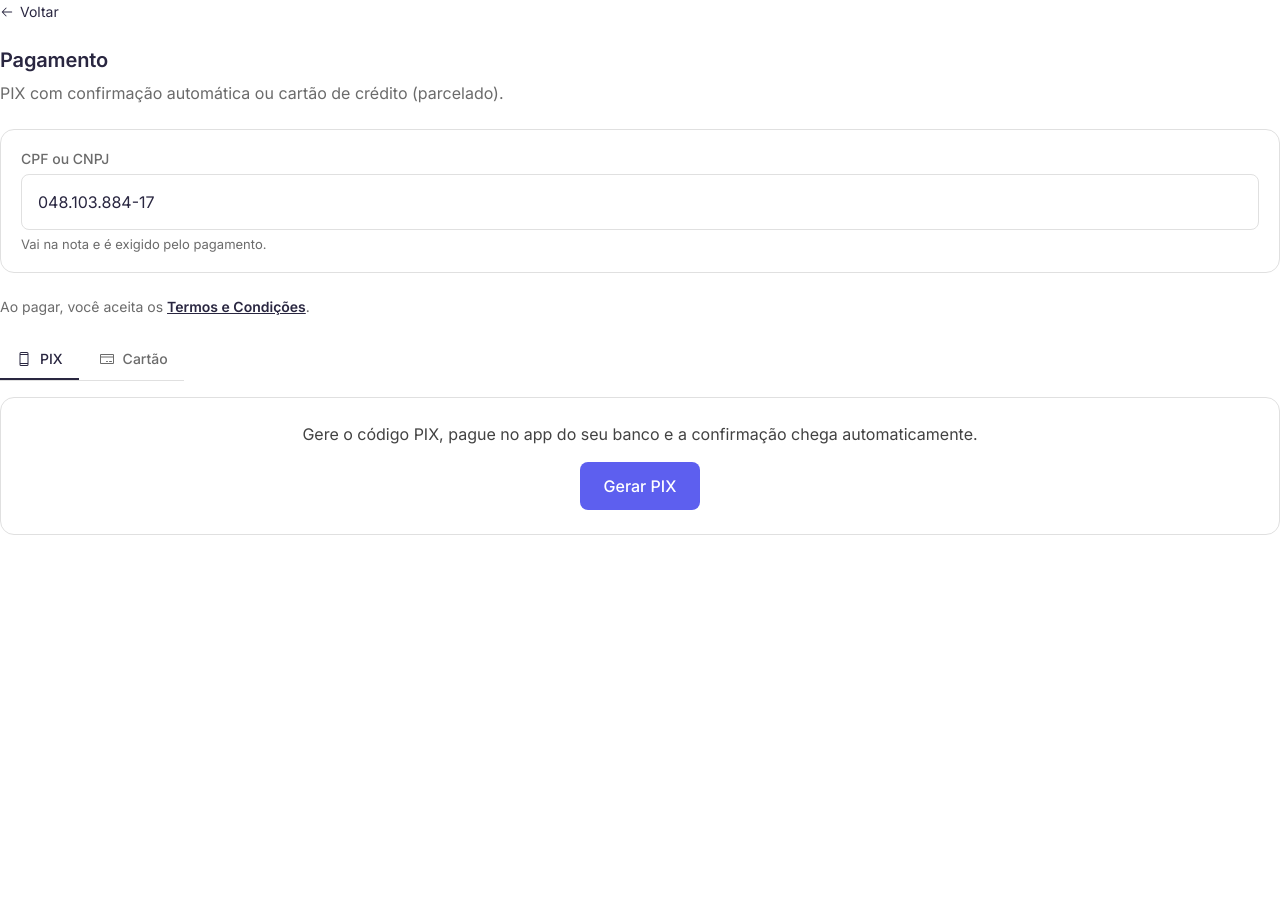
Step4Payment: parcelas com juros › cada opção com juros mostra taxa, acréscimo e CET; a escolhida vai para o resumo
Step 1. Click the tab "Cartão" → [133, 360], box [83,340,184,380]
(page scrolled)
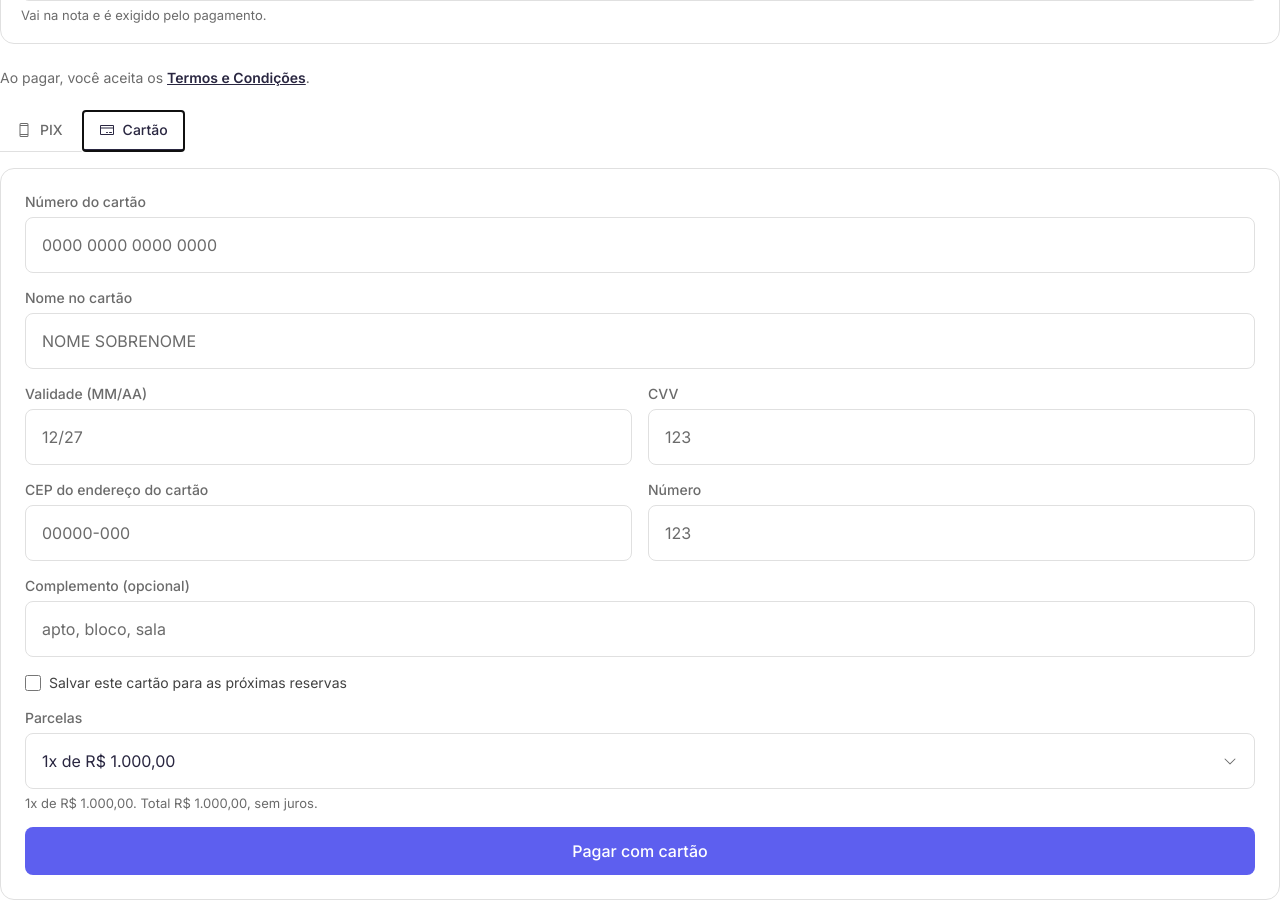
expect the dropdown named "Parcelas" is shown: met
Step 2. Click the dropdown labelled "1x de R$ 1.000,00" → [109, 761], box [25,733,1255,789]
(page scrolled)
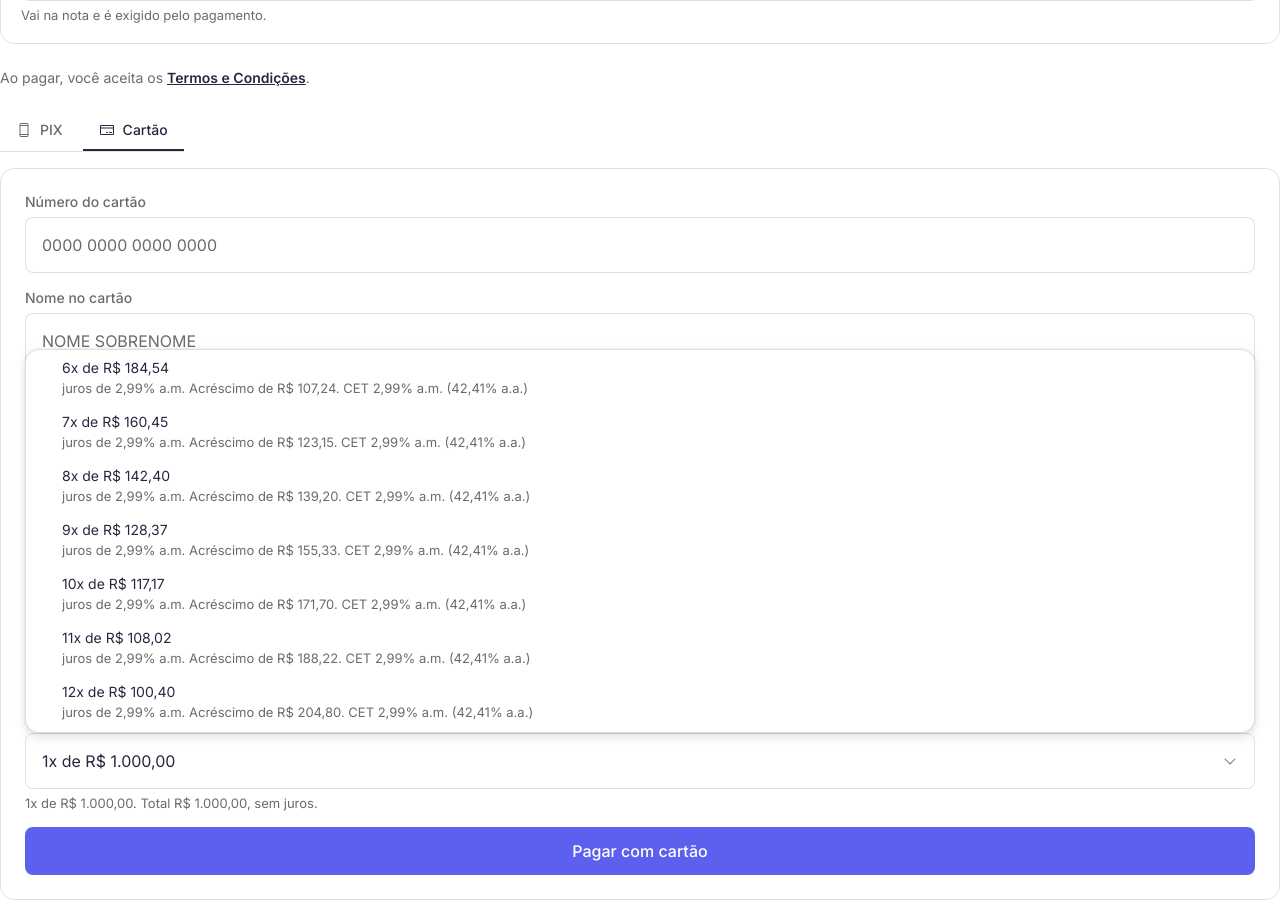
Step 3. Click the option "12x de R$" → [298, 702], box [62,683,533,720]
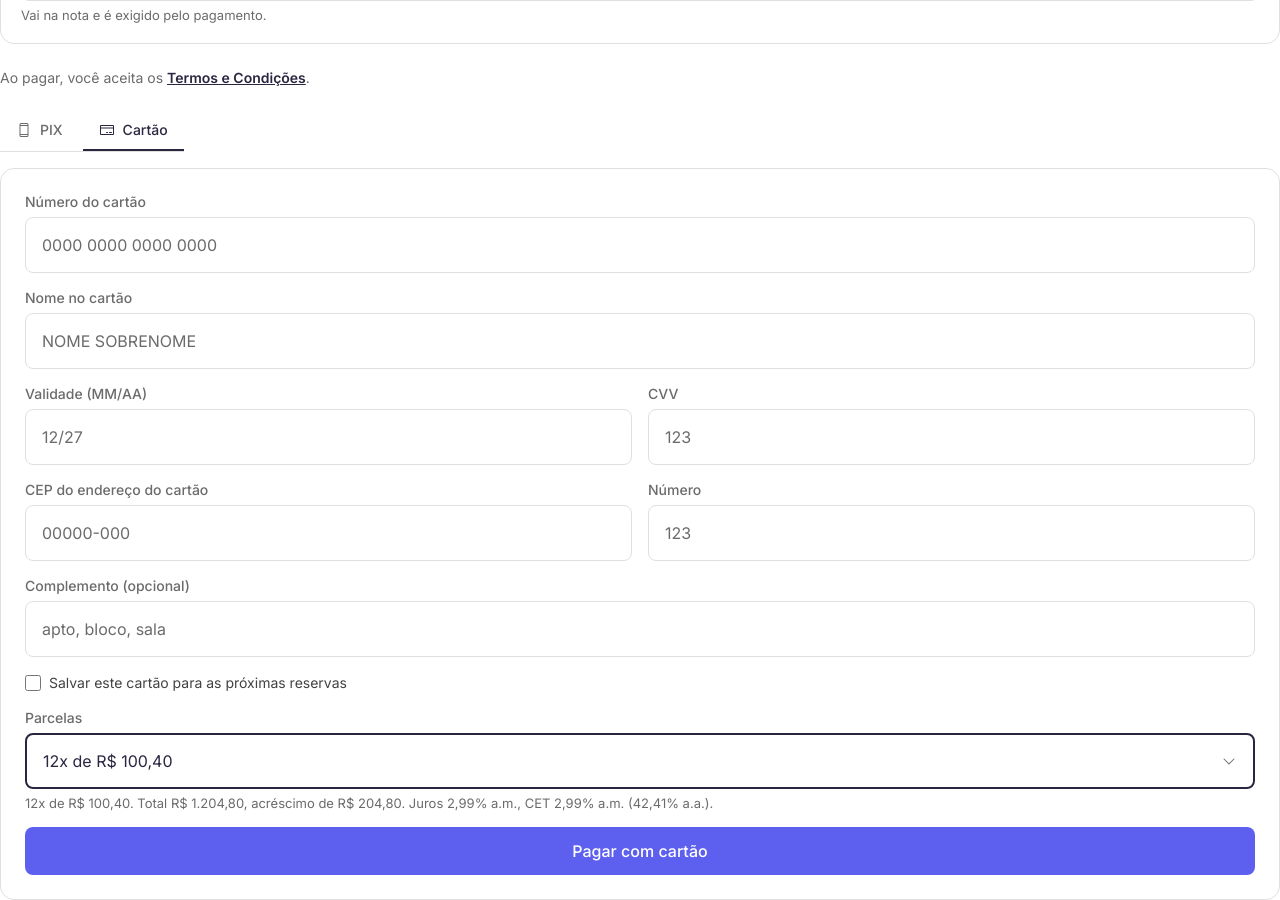
expect the text with test id "parcelas-resumo" shows "12x de R$ 100,40. Total R$ 1.204,80, acréscimo de R$ 204,80. Juros 2,99% a.m., CET 2,99% a.m. (42,41% a.a.).": met, box [25,795,713,811]
